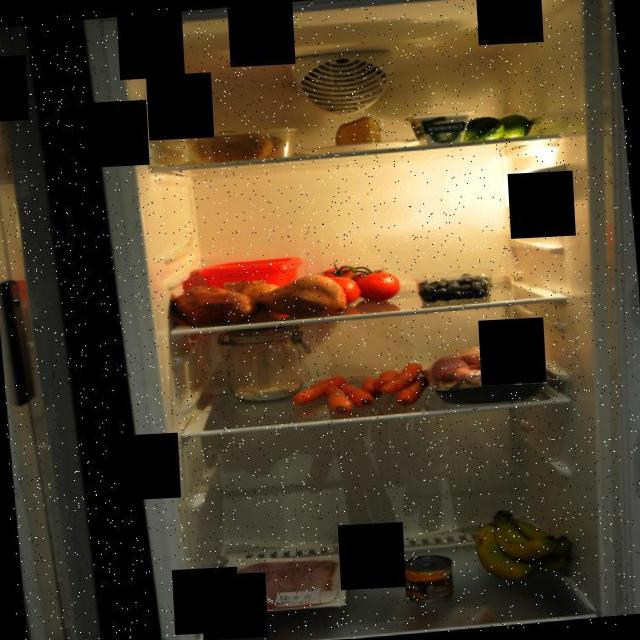Carne cerdo: (230, 551, 358, 614)
Carne pollo: (425, 333, 558, 408)
Mantequilla: (196, 254, 309, 300)
Patata: (176, 112, 300, 170)
Plátano: (462, 500, 582, 586)
Queso: (328, 112, 386, 152)
Tomate: (312, 254, 406, 308)
Zanahoria: (288, 362, 432, 422)
